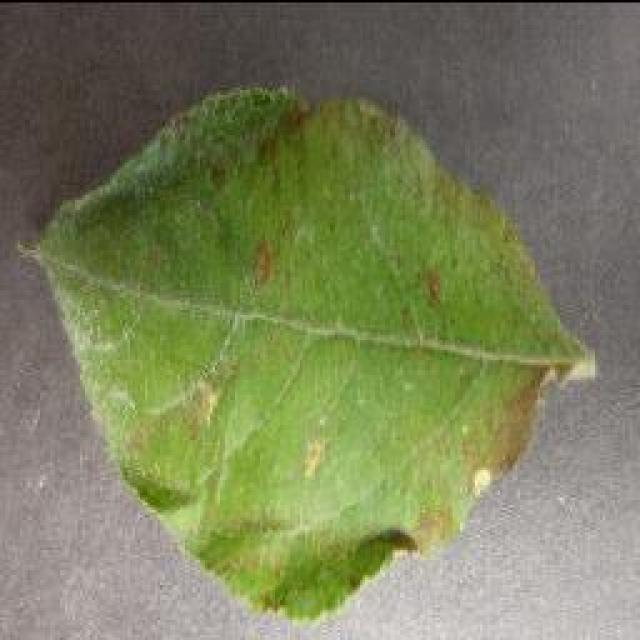apple scab disease: (17, 80, 595, 625)
